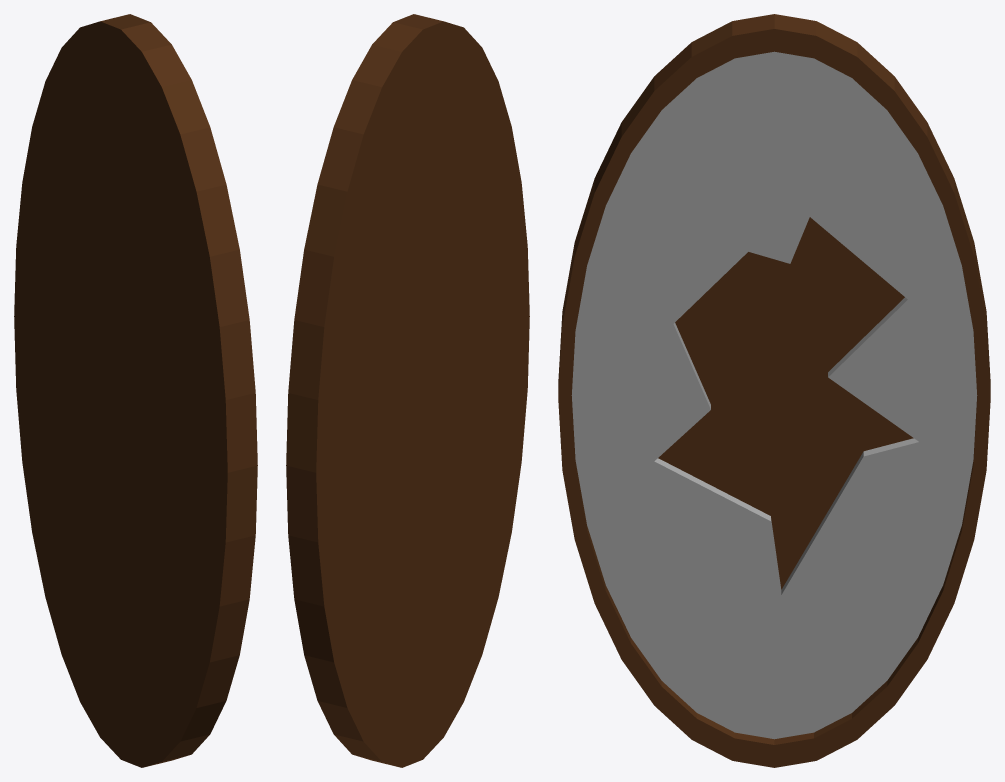
Rendered from mirror_borken.fbx.
3 renders of one model, left to right at view 1: azimuth 30°, elevation 25°; view 2: azimuth 150°, elevation 25°; view 3: azimuth 270°, elevation 25°, orthographic.
Visible parts, largest first — view 1: Cylinder; view 2: Cylinder; view 3: Cylinder.
Boxes of the visible parts, x1=… form: Cylinder: x1=14, y1=14, x2=257, y2=767; Cylinder: x1=286, y1=14, x2=529, y2=767; Cylinder: x1=558, y1=14, x2=990, y2=767.
Bounding box in the file's own units: 19.29 × 448 × 237.
